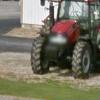Tractor: (22, 9, 100, 86)
